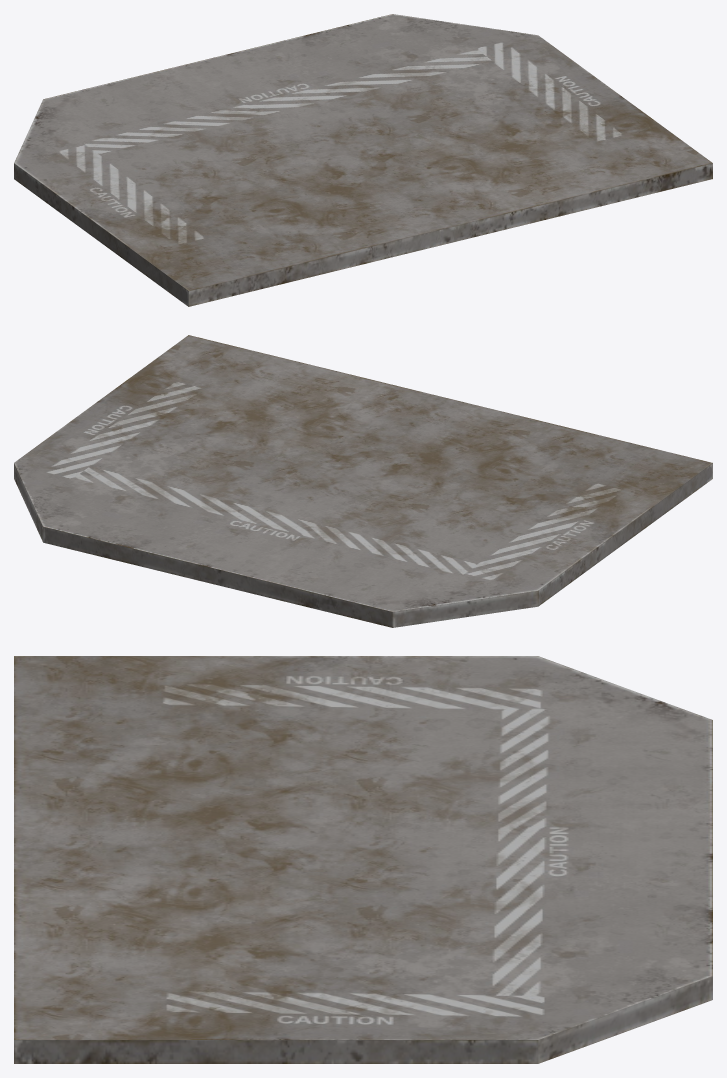
File: Vault Area.fbx
3 views of the same model, one above another, from view 1: azimuth 30°, elevation 25°; view 2: azimuth 150°, elevation 25°; view 3: azimuth 270°, elevation 25° (orthographic). The views are drawn at different scales.
Parts seen in each view (by area): view 1: defaultMaterial; view 2: defaultMaterial; view 3: defaultMaterial.
Boxes of the visible parts, x1,y1,x2,y2 form: defaultMaterial: (14,14,712,306); defaultMaterial: (14,335,712,627); defaultMaterial: (14,656,712,1063).
Size of the model in its own units: 651 by 18.87 by 501.
Materials: 1 (1 with a texture image).
